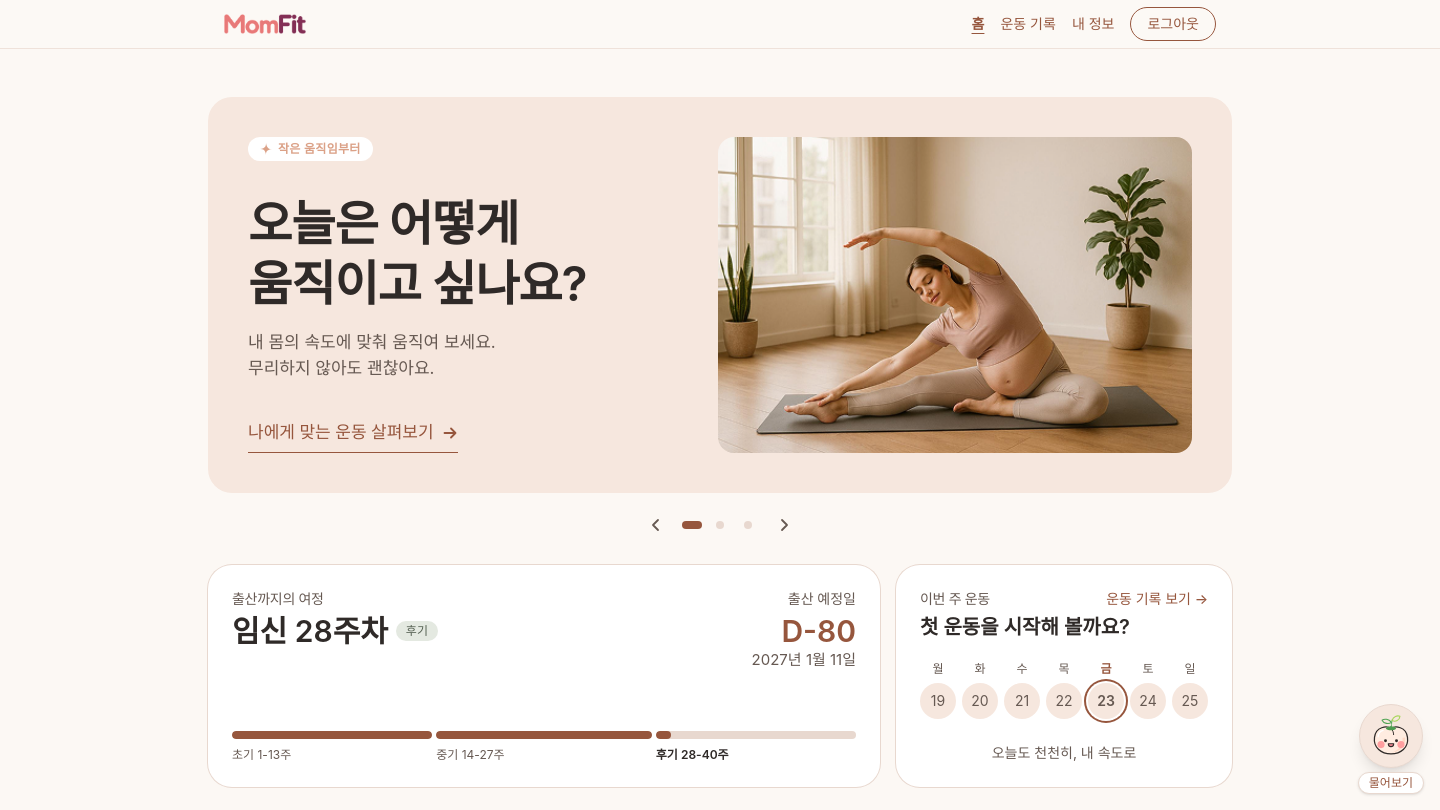
HomePage 히어로 › 닉네임과 임신 주차를 슬라이드에서 인사한다
Click the button named "다음 슬라이드": {"x": 784, "y": 525} [768,509,800,541]
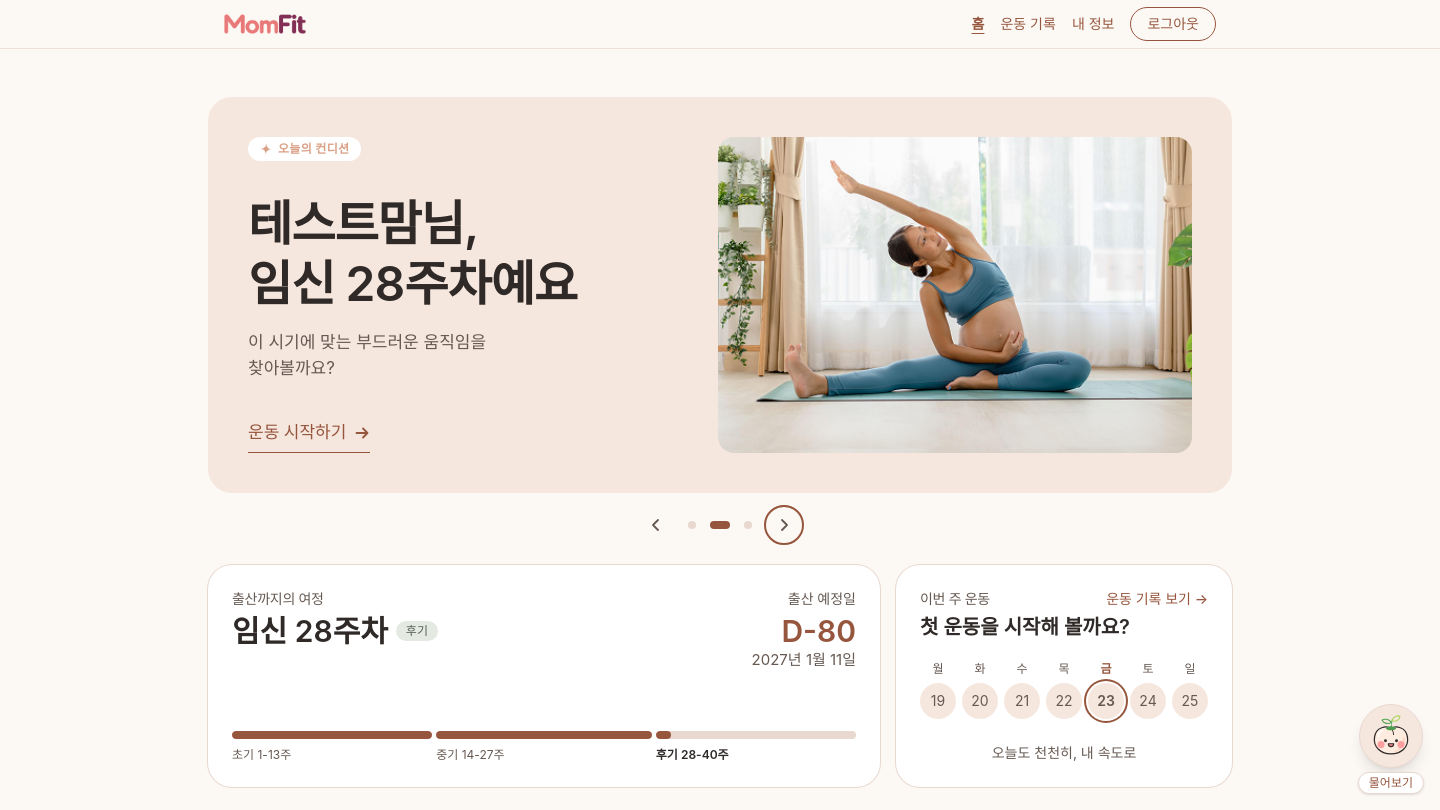
Expected: the heading "테스트맘님, 임신 28주차예요" is shown, [248,194,577,314]
